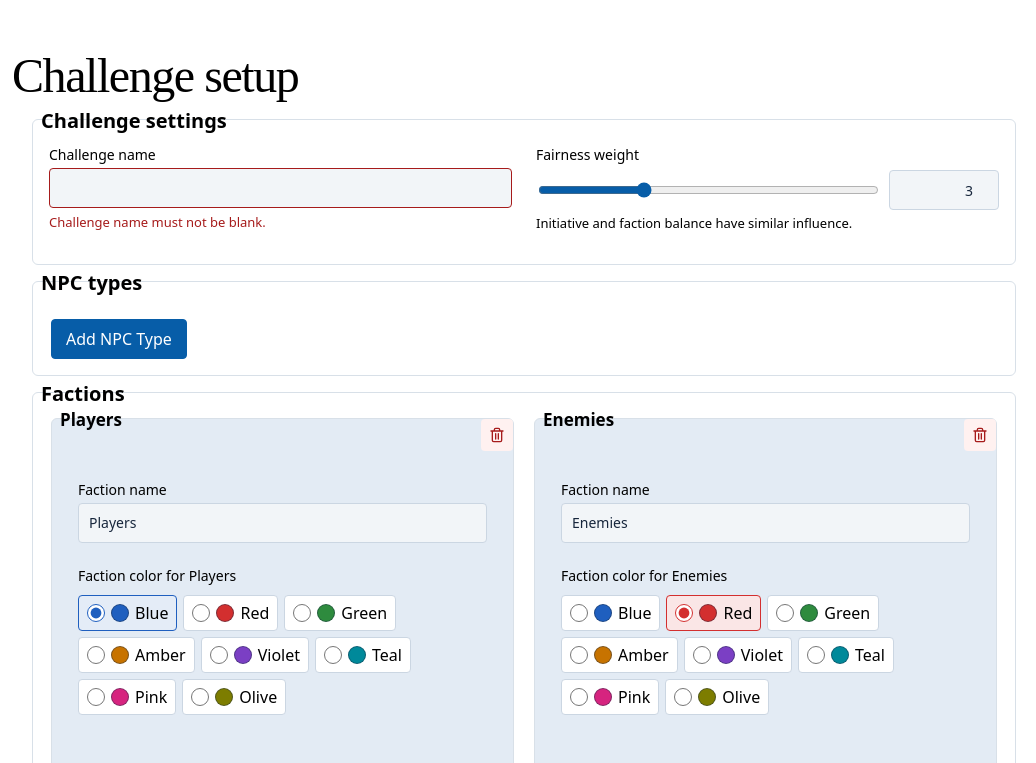
Test: challenge setup persistence › shows an error when autosaving cannot save
Check: the heading "Challenge setup" is shown, box x1=12 y1=49 x2=298 y2=102
Step 1. Type "Unsaved change" into the field labelled "Challenge name" → (280, 188), box x1=49 y1=168 x2=512 y2=208
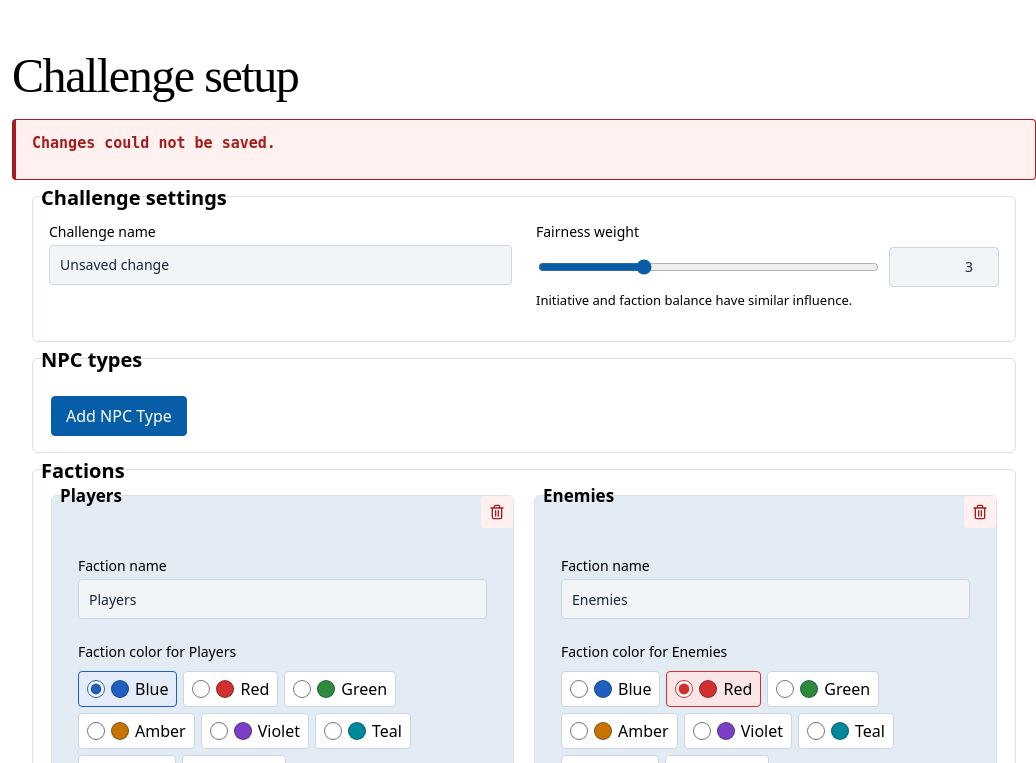
Check: the heading "Challenge setup" is shown, box x1=12 y1=49 x2=298 y2=102
Check: the message reads "Changes could not be saved.", box x1=32 y1=134 x2=276 y2=152
Check: the element showing "Changes could not be saved." is shown, box x1=12 y1=119 x2=1035 y2=180
